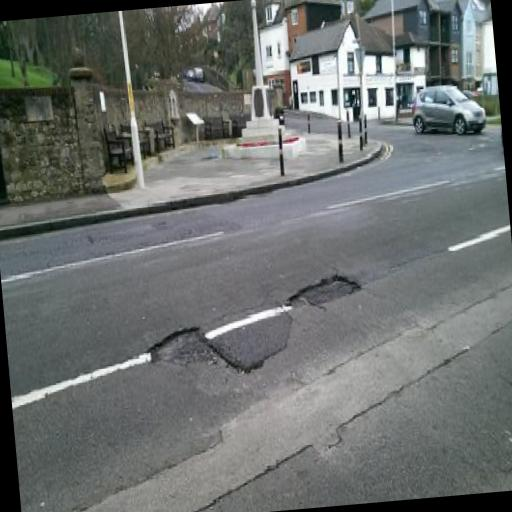pothole: (146, 320, 214, 368), (288, 269, 364, 311)
